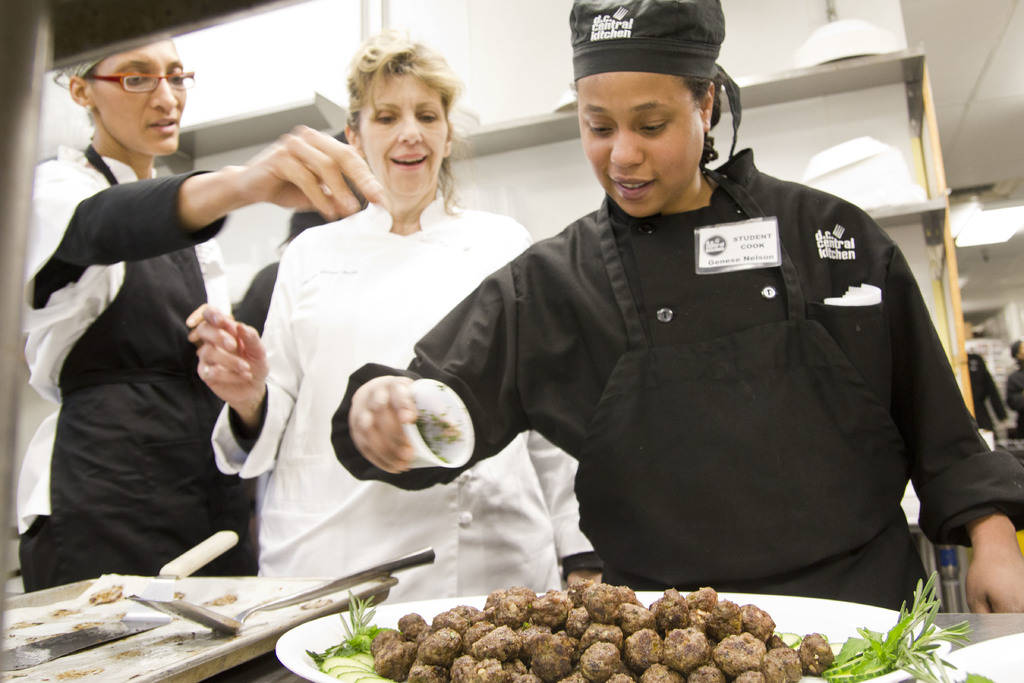Human_hand: (232, 124, 385, 222), (171, 300, 250, 400), (348, 373, 420, 475), (961, 544, 1023, 633), (183, 302, 209, 357)
